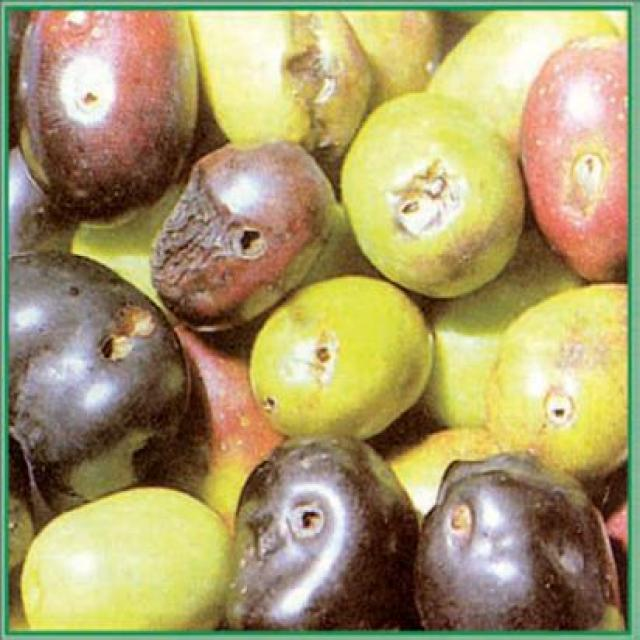Olive Fruit Fly: (9, 251, 190, 503), (342, 93, 523, 296), (19, 12, 197, 217), (227, 435, 416, 628), (151, 146, 345, 331), (415, 454, 620, 628), (250, 275, 432, 438), (193, 11, 373, 167), (482, 288, 626, 480), (522, 40, 624, 279)
